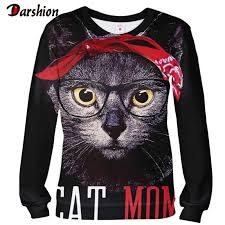cat: (49, 46, 175, 162)
